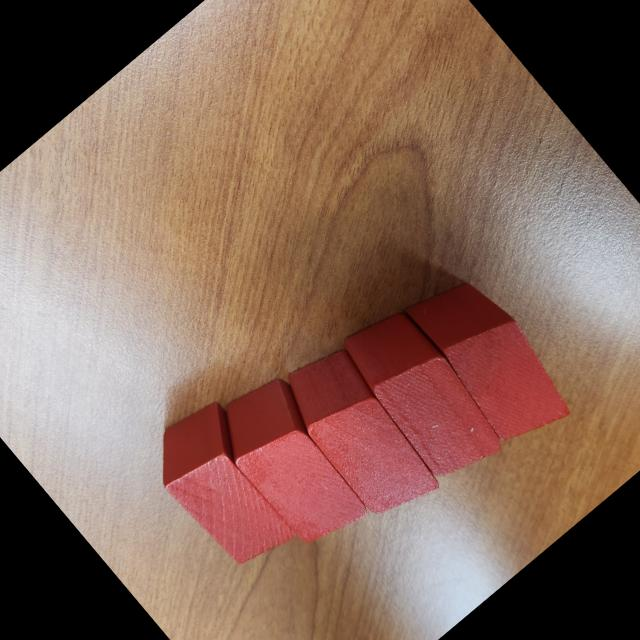red: (398, 260, 586, 461), (328, 295, 514, 494), (202, 363, 388, 560), (268, 334, 452, 530), (134, 390, 318, 582)
